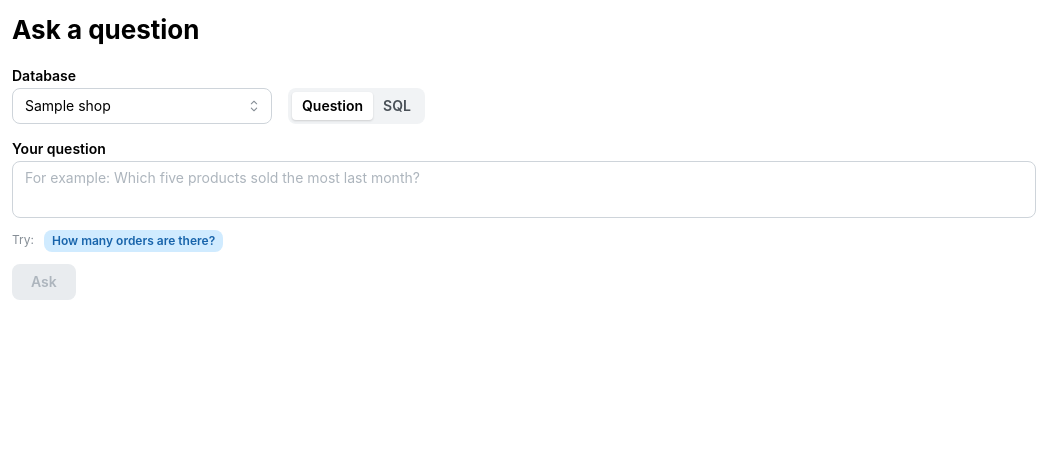
it: AskPage › says when the daily limit is reached, and when to try again
Type "How many orders per region?" into the text box labelled "Your question" at (524, 189), box [12,161,1036,218]
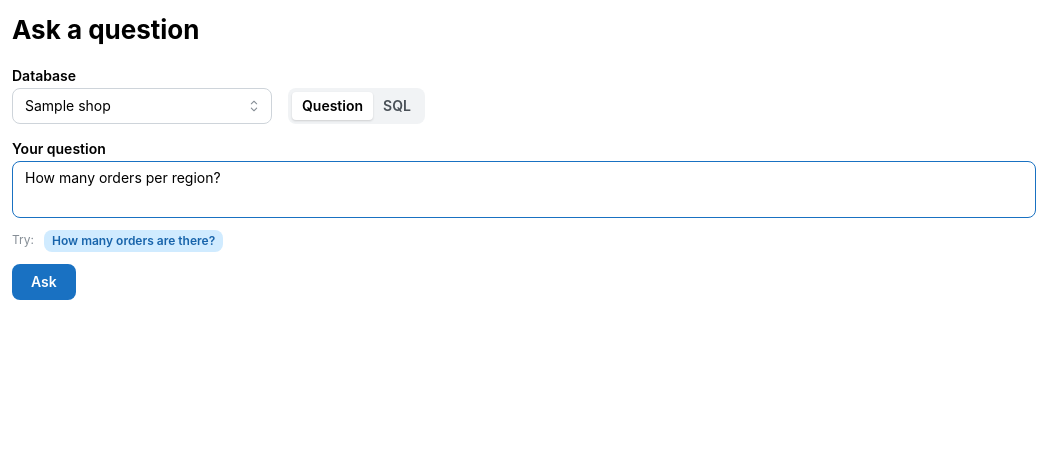
Click the button "Ask" at (44, 282), box [12,264,76,300]
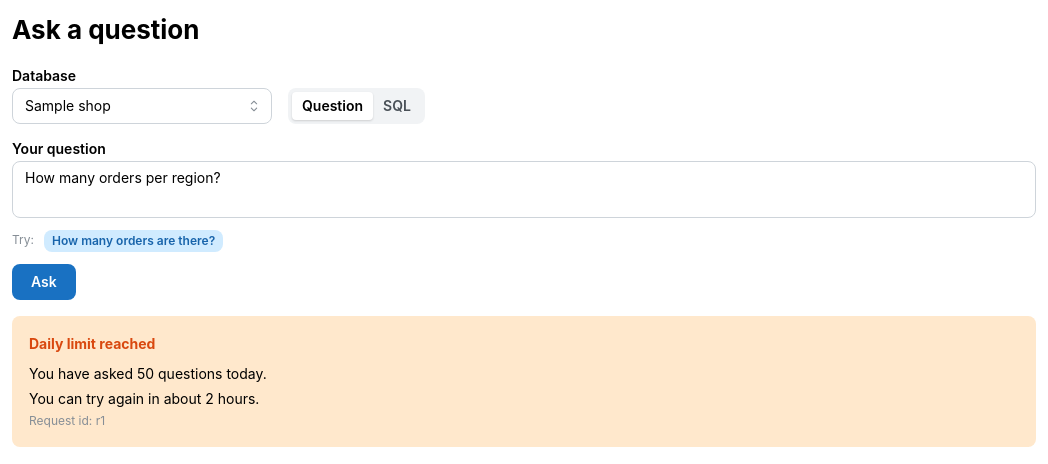
Check: the text "Daily limit reached" is shown, box [29,333,155,354]
Check: the text "You can try again in about 2 hours." is shown, box [29,390,259,407]
